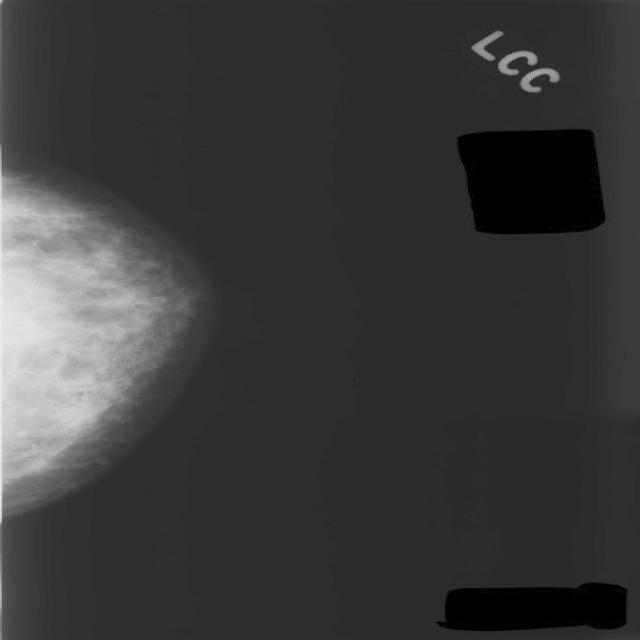tumour: (0, 260, 61, 351)
